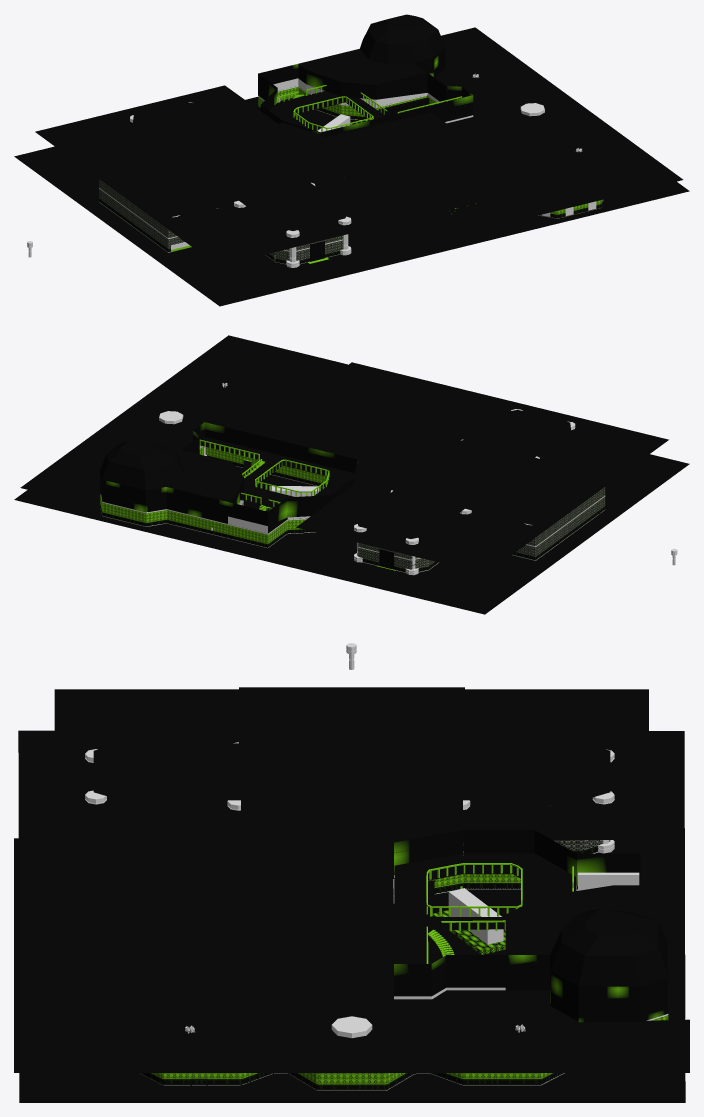
File: manorFBX.fbx
3 renders of one model, top to bottom at view 1: azimuth 30°, elevation 25°; view 2: azimuth 150°, elevation 25°; view 3: azimuth 270°, elevation 25°, orthographic. The views are drawn at different scales.
Parts seen in each view (by area): view 1: ceiling 2, ceiling, ceiling.002, floor, observatory dome, entryway wall.002, Plane.002, observatory wall, railing, pillar.016; view 2: ceiling 2, ceiling.002, ceiling, floor, observatory dome, entryway wall.002, Plane.002, oddities, observatory wall, railing, pillar.016; view 3: ceiling, ceiling 2, ceiling.002, floor, observatory dome, Plane.002, entryway wall.001, oddities, triceratops, railing, Cube.027, pillar.016 (+2 smaller).
Part boxes in pixels (x1,y1,x2,y2): ceiling 2: (35,85,534,265); ceiling: (359,27,683,252); ceiling.002: (99,101,351,230); floor: (14,95,689,306); observatory dome: (258,14,473,137); entryway wall.002: (99,179,343,264); Plane.002: (269,91,385,132); observatory wall: (298,86,427,120); railing: (293,96,373,131); pillar.016: (130,102,351,267); ceiling 2: (254,362,668,573); ceiling.002: (352,409,604,538); ceiling: (20,335,347,504); floor: (14,454,689,614); observatory dome: (100,422,358,533); entryway wall.002: (356,487,605,572); Plane.002: (200,436,353,510); oddities: (199,446,327,548); observatory wall: (100,494,243,537); railing: (255,459,329,496); pillar.016: (354,409,575,575); ceiling: (14,838,689,1072); ceiling 2: (54,689,648,940); ceiling.002: (93,687,610,844); floor: (18,730,685,1102); observatory dome: (394,830,668,1022); Plane.002: (394,853,575,963); entryway wall.001: (140,1073,564,1090); oddities: (394,874,577,942); triceratops: (448,888,503,944); railing: (426,863,522,916); Cube.027: (578,872,639,890); pillar.016: (85,749,614,853).
Bounding box in the file's own units: 11918 × 1717 × 7681.
